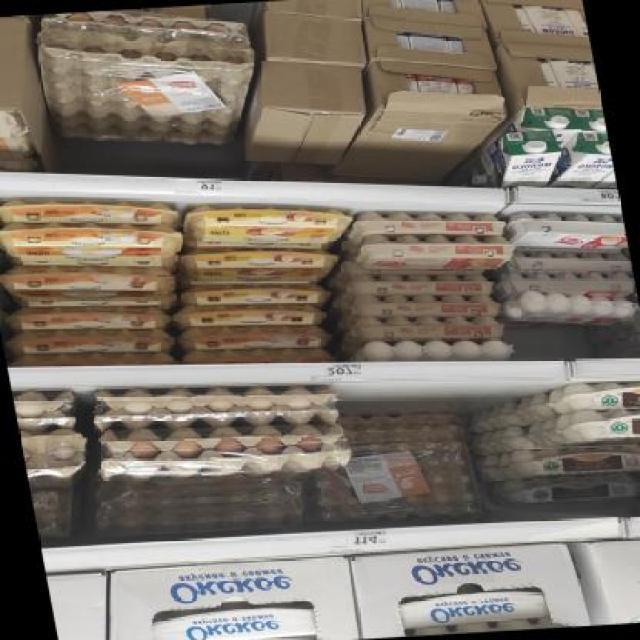Egg: (0, 217, 183, 269), (185, 199, 356, 253), (0, 261, 178, 309), (0, 189, 178, 235), (351, 230, 515, 279), (178, 245, 342, 289), (348, 204, 511, 244), (393, 587, 550, 628), (500, 210, 628, 257), (478, 129, 569, 193), (146, 605, 317, 639), (4, 303, 171, 337), (343, 268, 499, 304), (4, 326, 178, 358), (486, 473, 640, 509), (349, 310, 506, 344), (179, 320, 330, 354), (498, 444, 640, 480), (175, 281, 331, 313), (360, 617, 583, 639), (174, 300, 324, 332), (345, 289, 499, 320), (541, 130, 617, 192), (549, 407, 640, 447), (544, 379, 640, 415), (610, 605, 640, 624)
